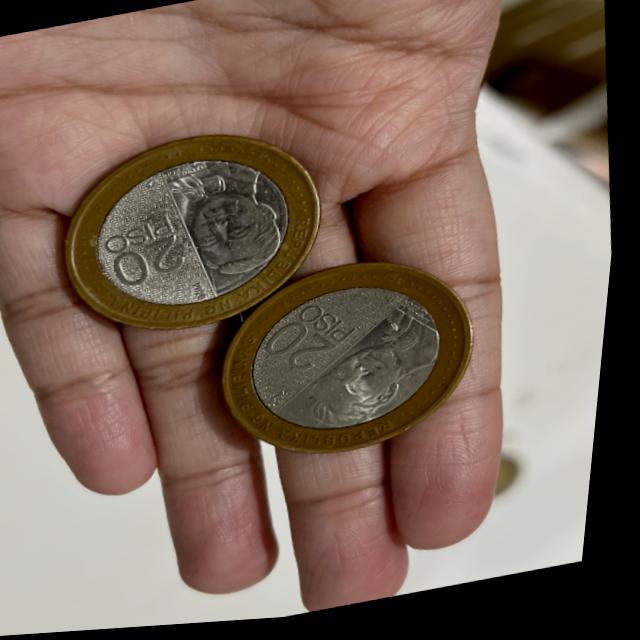20_New_Front: (260, 300, 372, 385), (98, 211, 202, 296)
